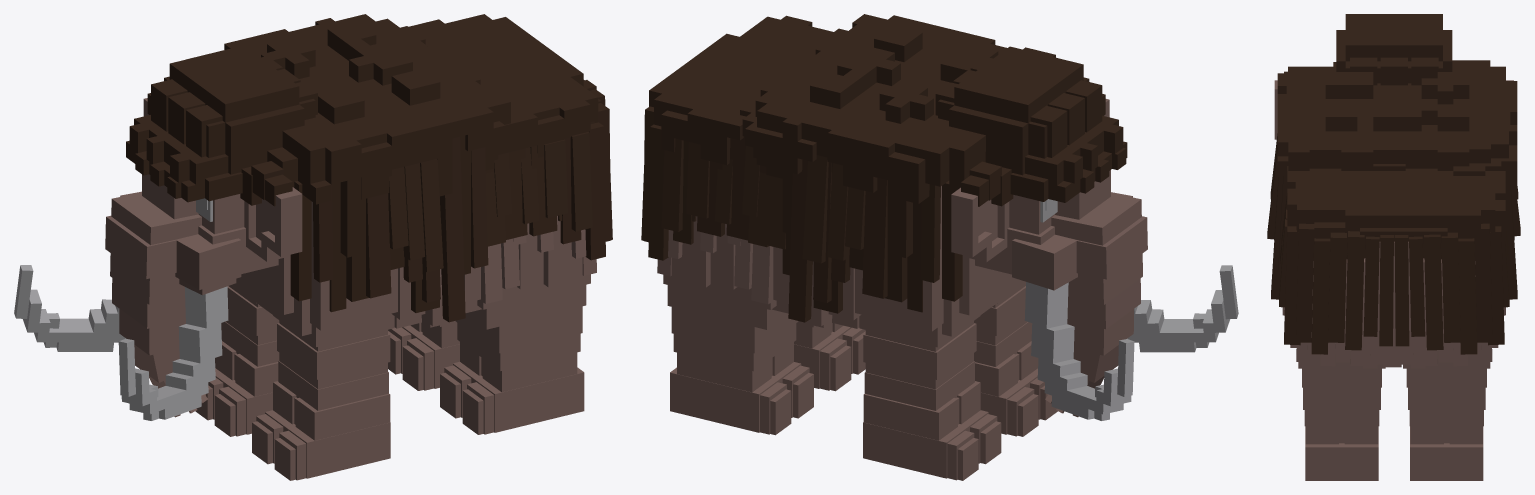
Rendered from mammoth.obj.
3 renders of one model, left to right at view 1: azimuth 30°, elevation 25°; view 2: azimuth 150°, elevation 25°; view 3: azimuth 270°, elevation 25°, orthographic. The views are drawn at different scales.
Parts seen in each view (by area): view 1: Cube.028, Cube.037, Cube.052, Cube.010, Cube.005, Cube.024, Cube.034, Cube.032, Cube.001, Cube.026, Cube.013, Cube.025 (+12 smaller); view 2: Cube.028, Cube.037, Cube.010, Cube.052, Cube.005, Cube.024, Cube.034, Cube.032, Cube.001, Cube.026, Cube.046, Cube.013 (+12 smaller); view 3: Cube.028, Cube.052, Cube.032, Cube.010, Cube.034, Cube.051, Cube.033, Cube.037, Cube.053.
Boxes of the visible parts, x1,y1,x2,y2 form: Cube.028: (191,14,601,204); Cube.037: (290,135,470,322); Cube.052: (471,80,612,268); Cube.010: (151,45,317,174); Cube.005: (14,265,228,420); Cube.024: (221,285,394,410); Cube.034: (388,325,584,434); Cube.032: (438,242,590,370); Cube.001: (105,192,201,328); Cube.026: (195,368,390,480); Cube.013: (126,115,242,202); Cube.025: (215,341,390,440); Cube.028: (649,14,1055,203); Cube.037: (782,155,962,322); Cube.010: (935,46,1102,175); Cube.052: (641,106,785,260); Cube.005: (1024,265,1238,420); Cube.024: (859,282,1032,410); Cube.034: (670,325,865,435); Cube.032: (663,243,814,371); Cube.001: (1051,193,1147,329); Cube.026: (863,368,1057,480); Cube.046: (668,216,789,304); Cube.013: (1010,115,1127,202); Cube.028: (1277,60,1517,252); Cube.052: (1278,176,1509,354); Cube.032: (1298,350,1490,426); Cube.010: (1336,14,1452,85); Cube.034: (1305,426,1483,480); Cube.051: (1296,241,1492,367); Cube.033: (1305,426,1482,444); Cube.037: (1267,133,1520,299); Cube.053: (1363,336,1425,368).
Bounding box in the file's own units: 15.35 × 10.76 × 7.62.
